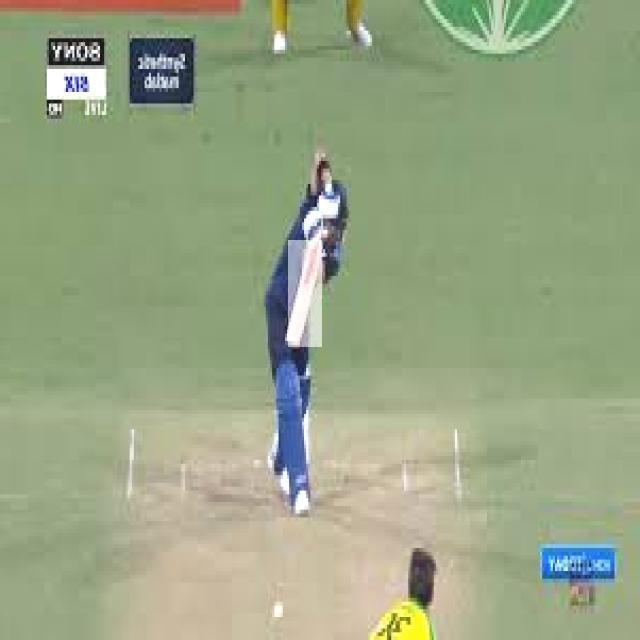bat: (280, 241, 323, 350)
toe: (284, 333, 304, 346)
